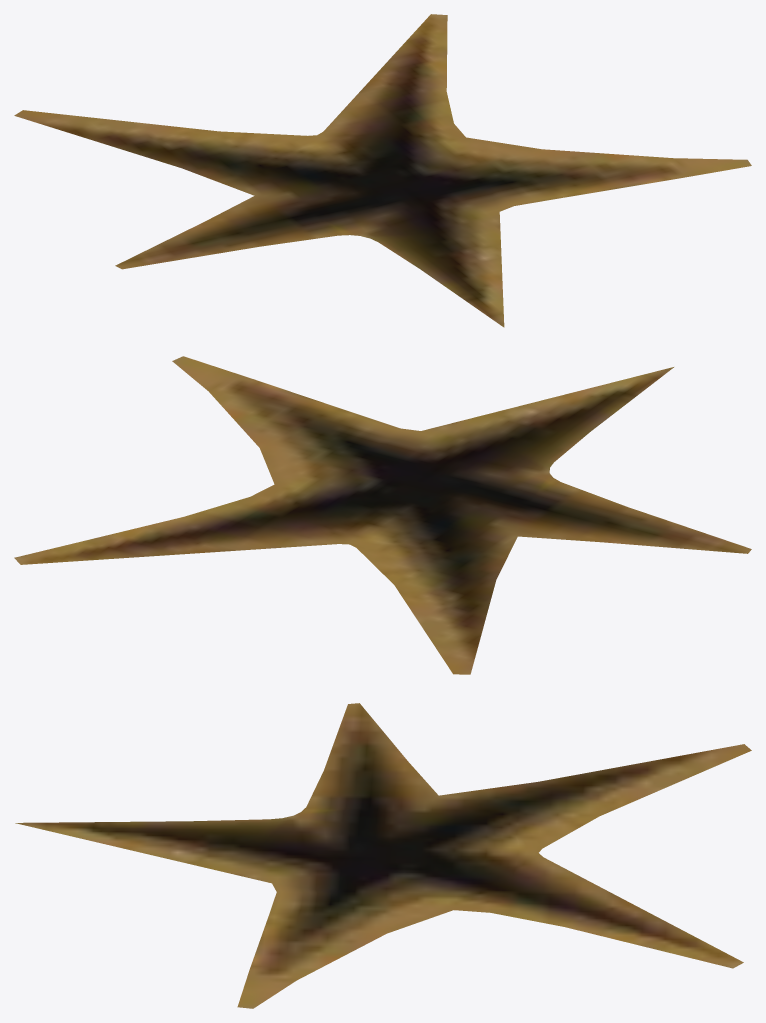
File: dig-spot.glb
3 views of the same model, one above another, from view 1: azimuth 30°, elevation 25°; view 2: azimuth 150°, elevation 25°; view 3: azimuth 270°, elevation 25° (orthographic). The views are drawn at different scales.
Size of the model in its own units: 7.21 by 0 by 7.35.
1 material, 1 textured.
